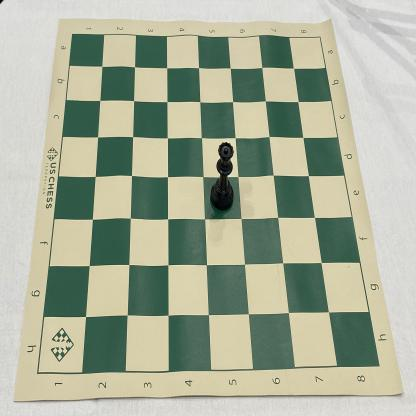black-queen: (210, 142, 234, 212)
